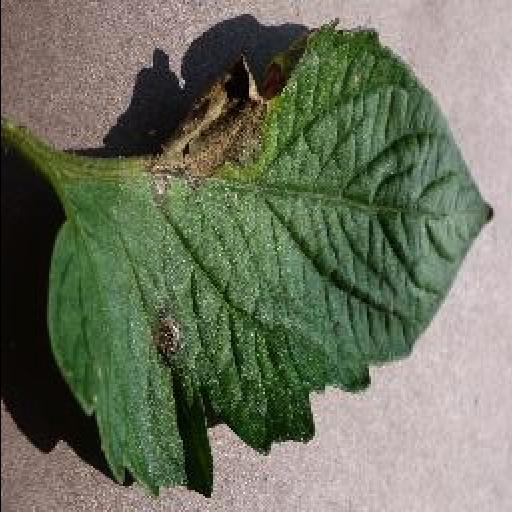disease_tomato: (41, 23, 499, 497)
